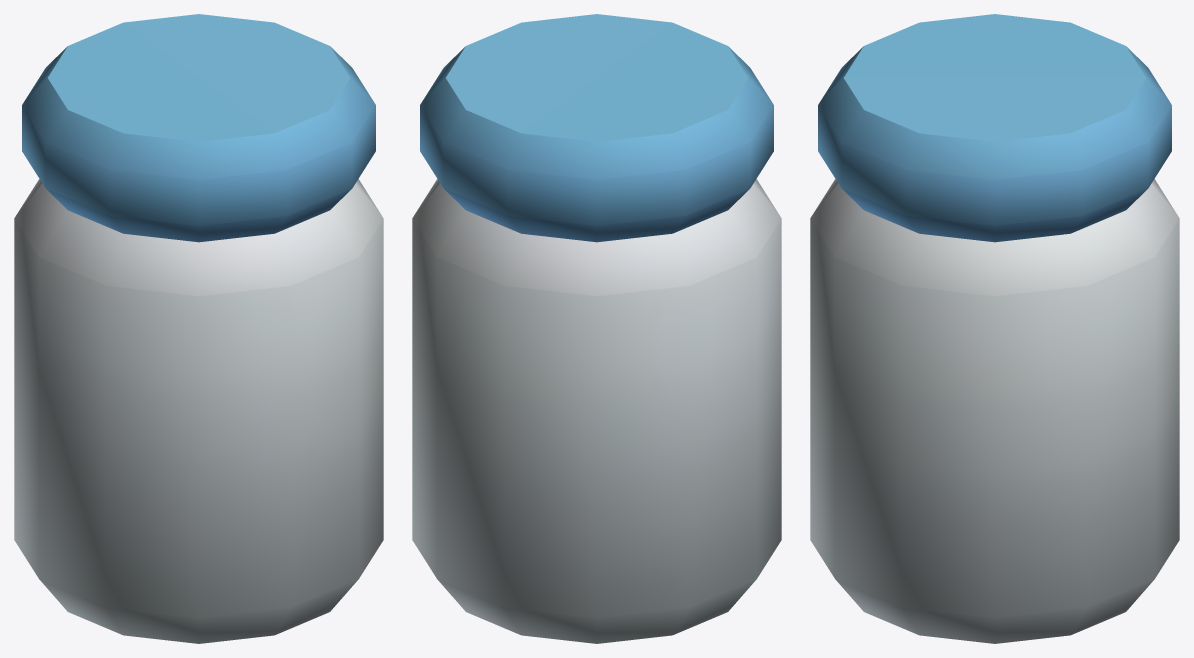
File: kay-pote.gltf
3 views of the same model, side by side, from view 1: azimuth 30°, elevation 25°; view 2: azimuth 150°, elevation 25°; view 3: azimuth 270°, elevation 25° (orthographic).
Parts seen in each view (by area): view 1: jar_A_large; view 2: jar_A_large; view 3: jar_A_large.
Part boxes in pixels (x1,y1,x2,y2): jar_A_large: [14, 14, 383, 643]; jar_A_large: [412, 14, 781, 643]; jar_A_large: [810, 14, 1179, 643].
Size of the model in its own units: 0.325 by 0.4875 by 0.325.
Materials: 1 (1 with a texture image).
